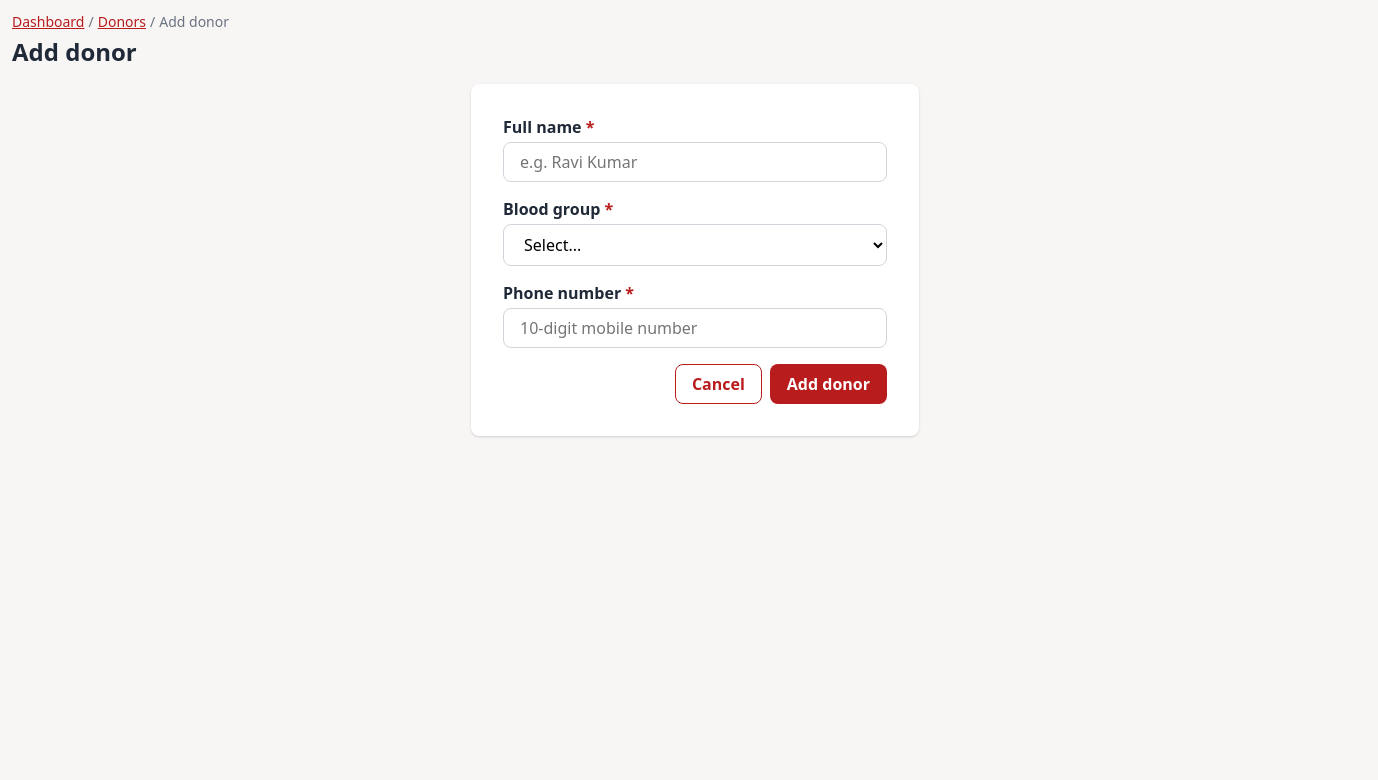
DonorFormPage › creates a donor, shows a success toast and opens its details
The width and height of the screenshot is (1378, 780).
In the field labelled "Full name": [695, 162] box [503, 142, 887, 182], type "Ravi Kumar"
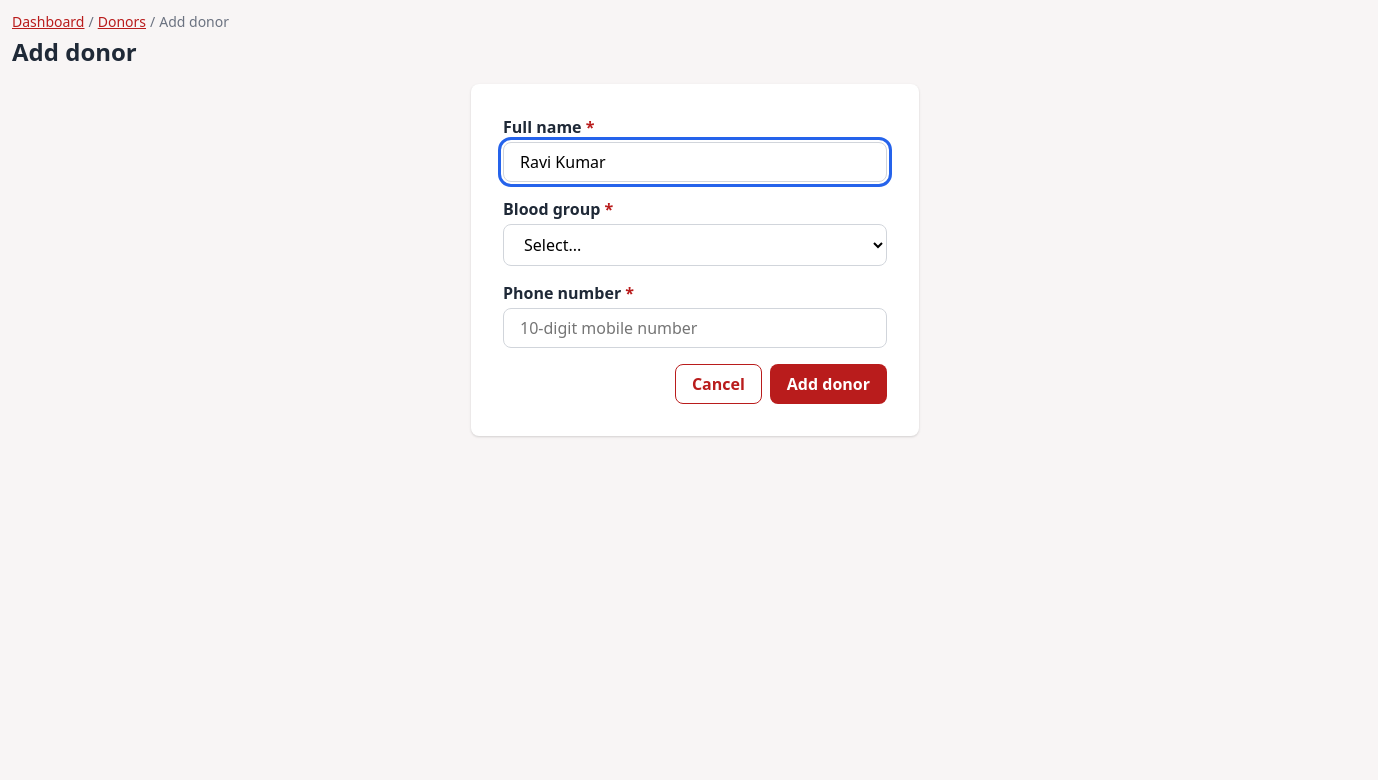
Select "B+" in the dropdown labelled "Blood group": [695, 245] box [503, 224, 887, 266]
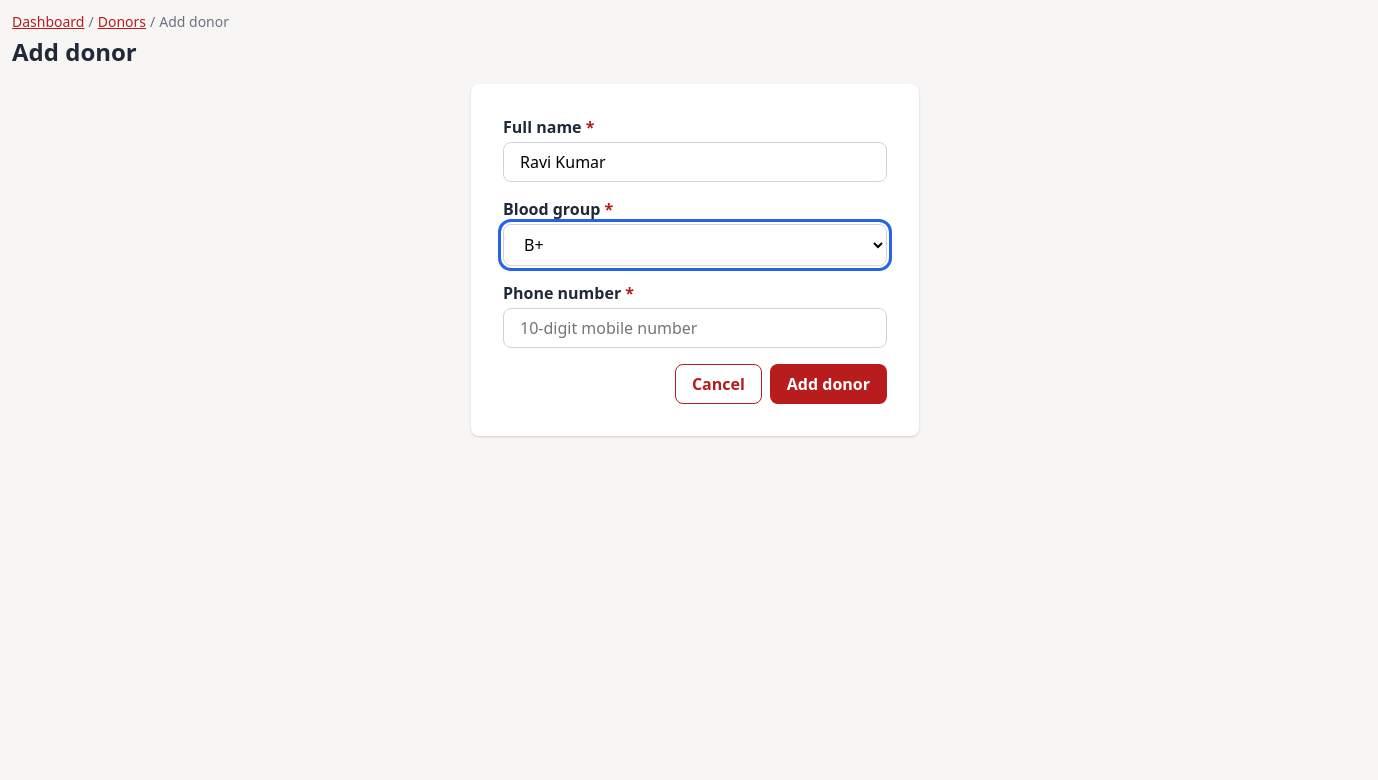
In the field labelled "Phone number": [695, 328] box [503, 308, 887, 348], type "9876500001"
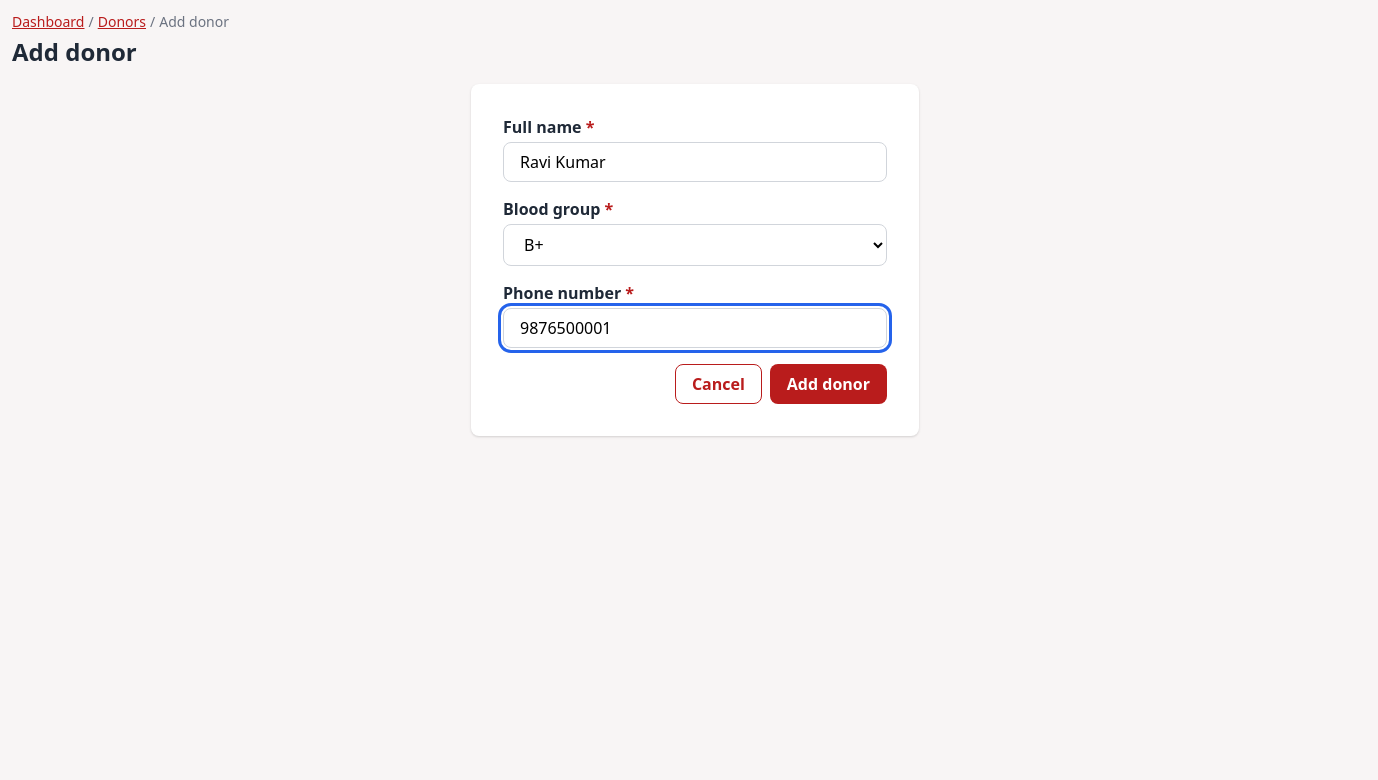
Click the button "Add donor": [828, 384] box [770, 364, 887, 404]
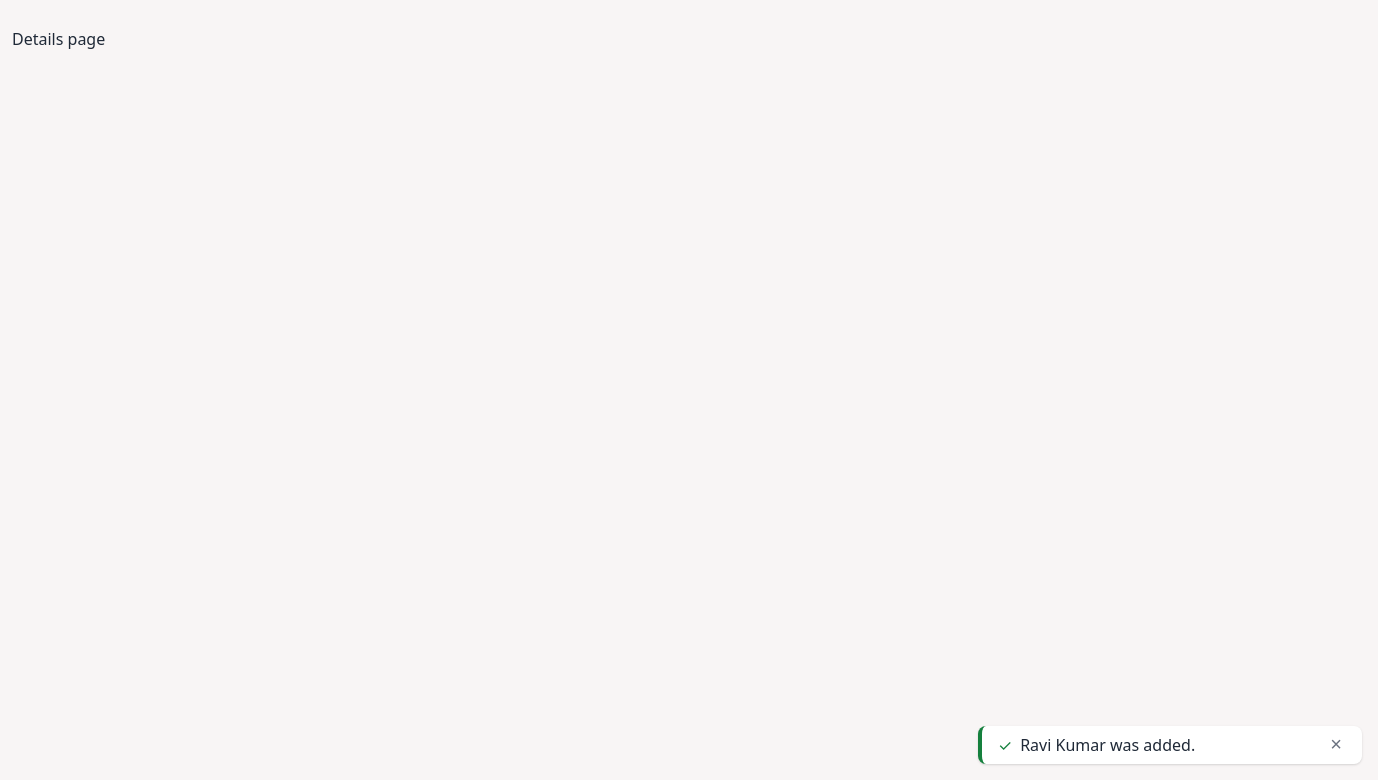
Check: the text "Details page" is shown, box [12, 28, 105, 50]
